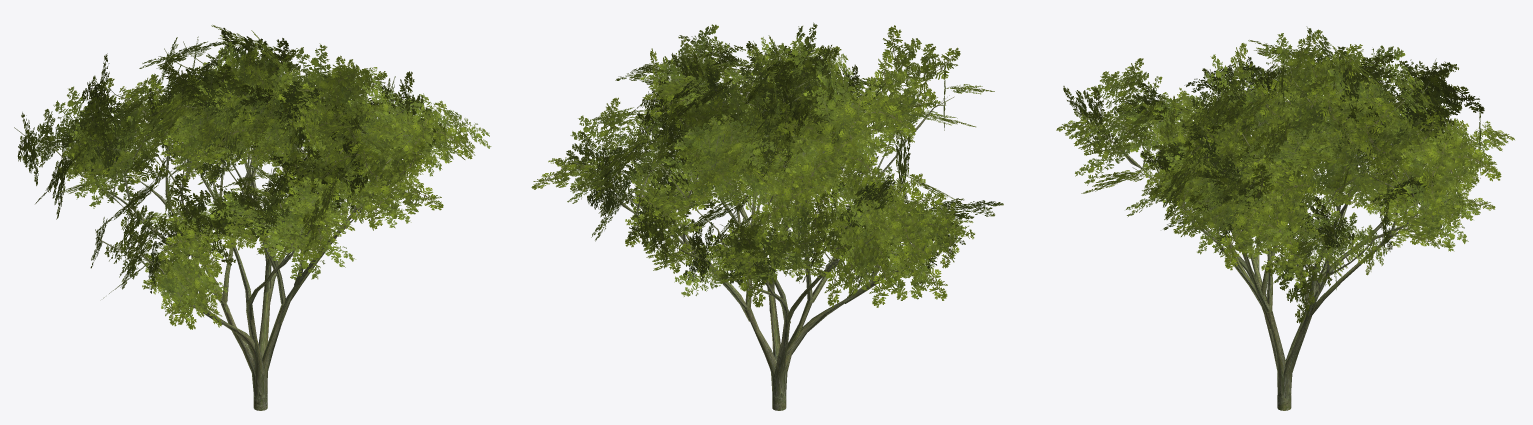
The model's file is Palo_Verde_Model_0.obj.
3 views of the same model, side by side, from view 1: azimuth 30°, elevation 25°; view 2: azimuth 150°, elevation 25°; view 3: azimuth 270°, elevation 25° (orthographic).
Visible parts, largest first — view 1: Bark; view 2: Bark; view 3: Bark.
Part boxes in pixels (bbox=[...]): Bark: bbox=[14, 25, 491, 410]; Bark: bbox=[531, 22, 1003, 410]; Bark: bbox=[1056, 26, 1514, 410].
Size of the model in its own units: 4.65 by 4 by 4.73.
1 material, 1 textured.
